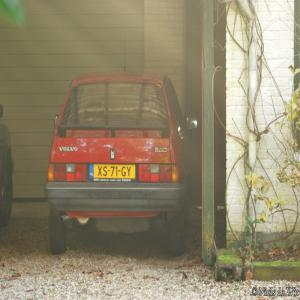Vehicle-registration-plate: (91, 163, 136, 183)
